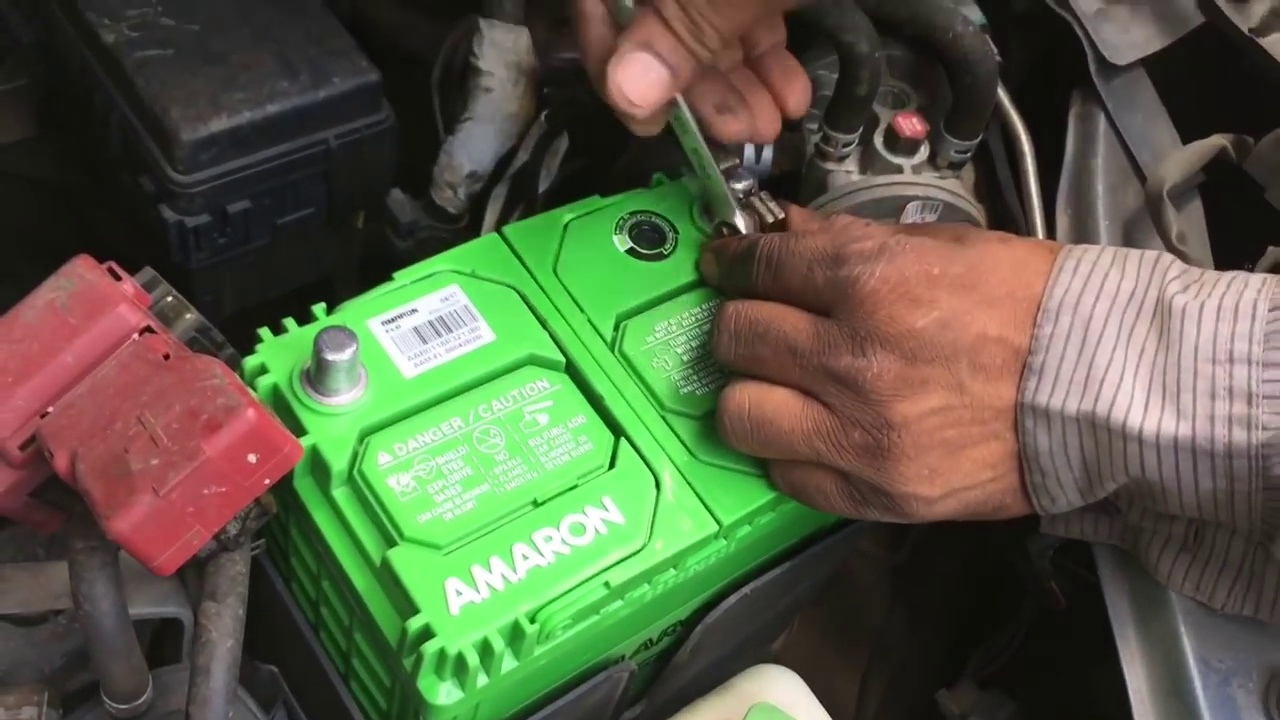battery: (242, 168, 873, 633)
neg_touched: (660, 100, 856, 380)
pos_disconnected: (123, 248, 369, 490)
